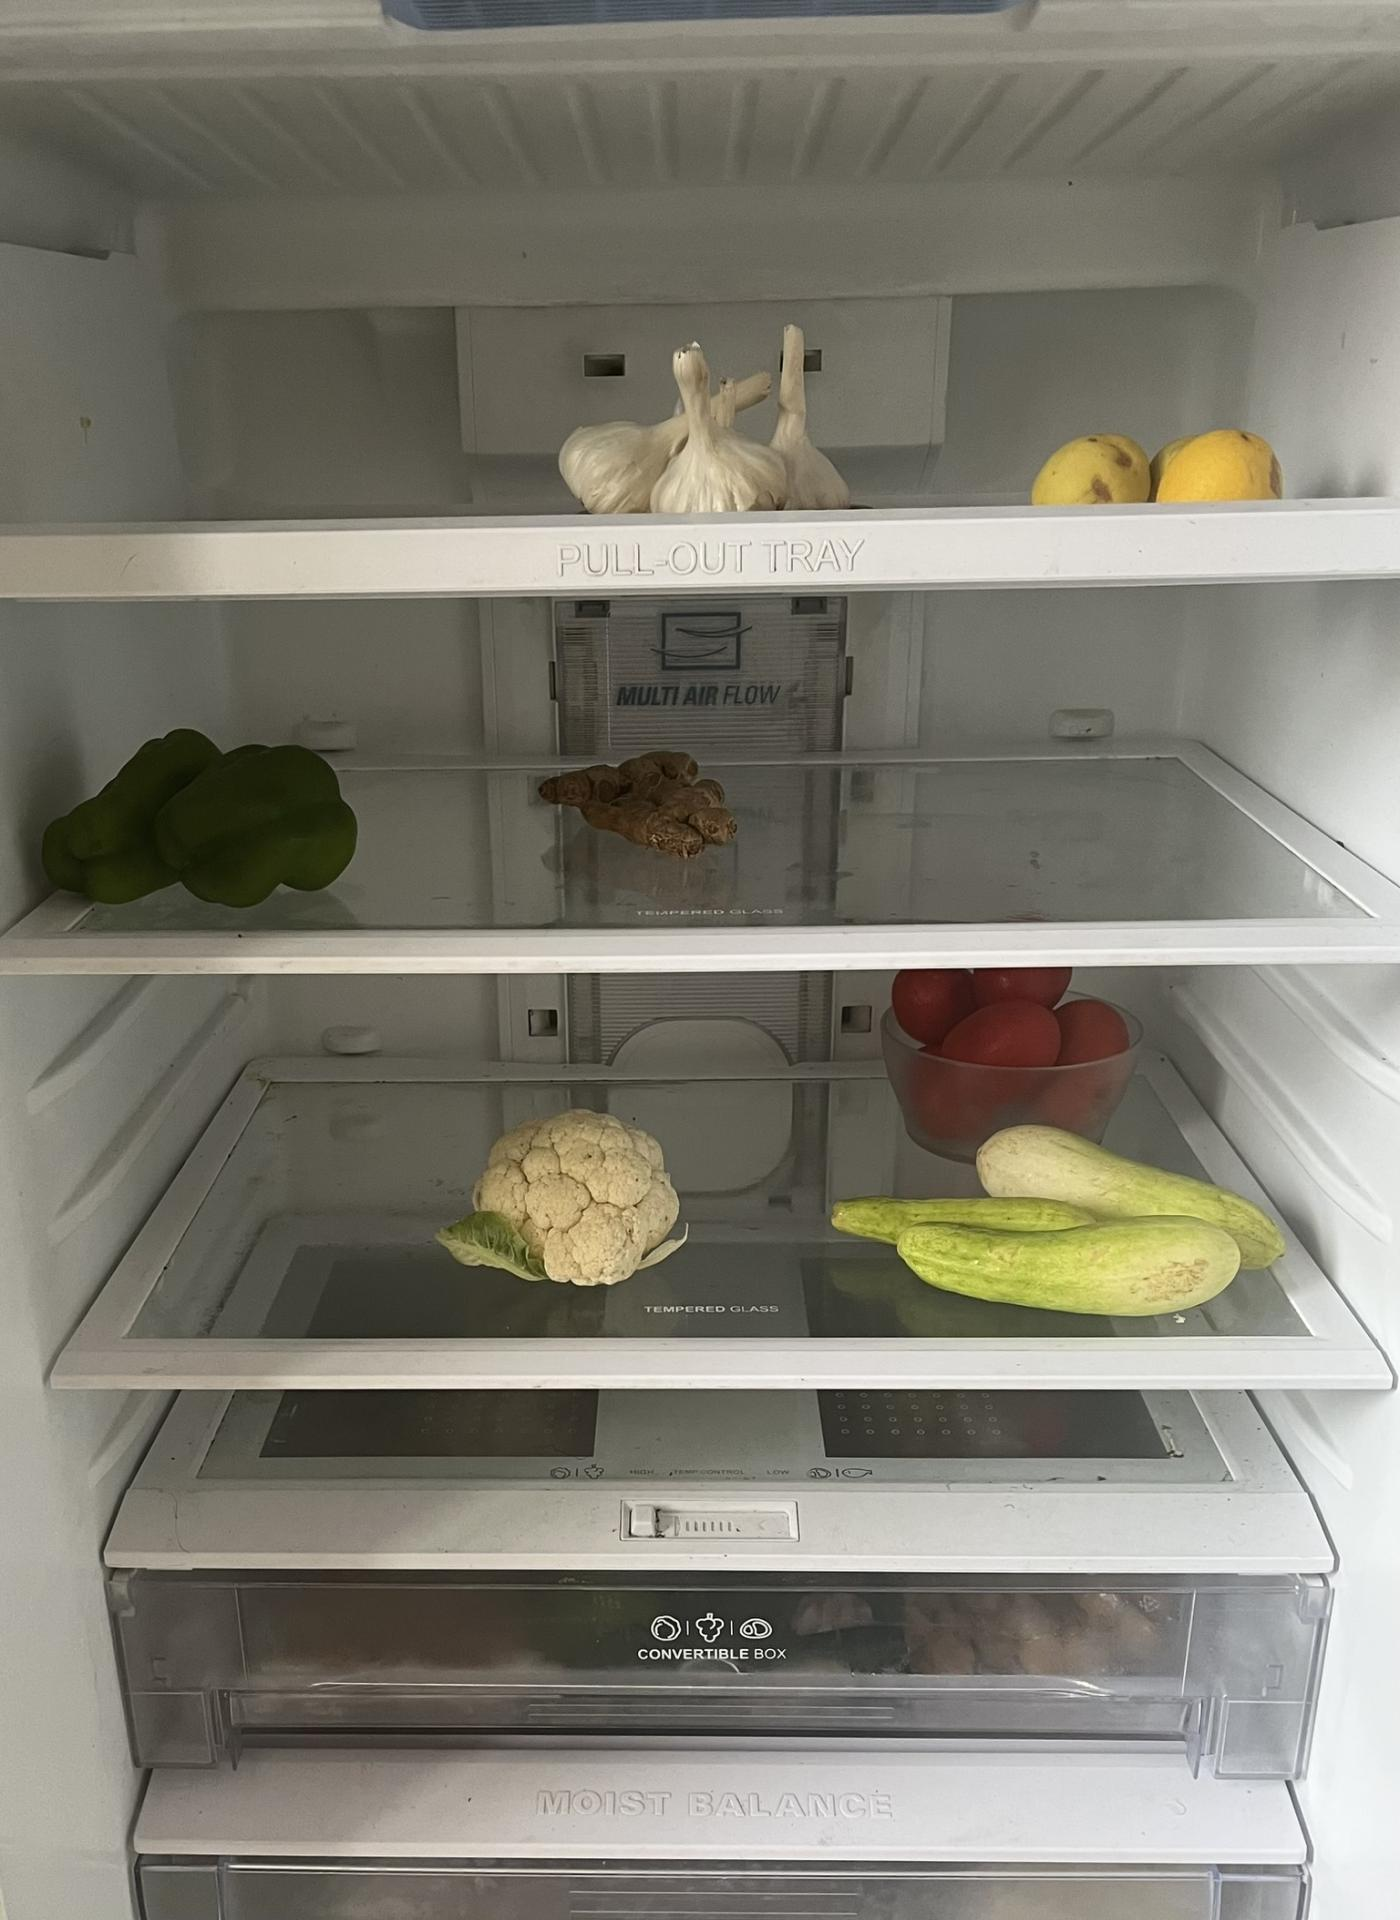capsicum: (36, 721, 370, 912)
cauliflower: (443, 1106, 695, 1291)
cucumber: (817, 1122, 1300, 1322)
garlic: (559, 325, 857, 513)
ginger: (531, 741, 756, 866)
lemon: (1030, 419, 1294, 507)
tomato: (887, 963, 1142, 1118)
